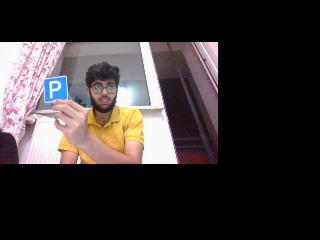parking: (44, 78, 68, 102)
